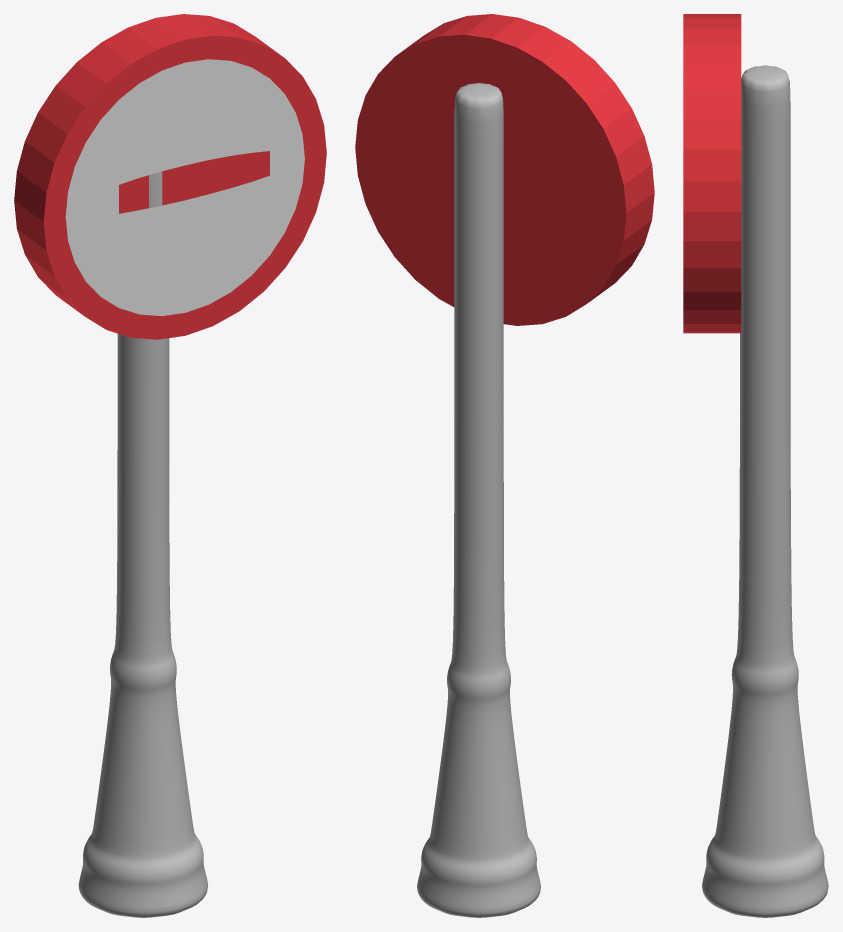
File: stop.fbx
3 renders of one model, left to right at view 1: azimuth 30°, elevation 25°; view 2: azimuth 150°, elevation 25°; view 3: azimuth 270°, elevation 25°, orthographic. The views are drawn at different scales.
Parts seen in each view (by area): view 1: Circle, Cylinder; view 2: Circle, Cylinder; view 3: Cylinder, Circle.
Part boxes in pixels (bbox=[...]): Circle: bbox=[14, 14, 326, 339]; Cylinder: bbox=[78, 171, 208, 917]; Circle: bbox=[355, 14, 654, 325]; Cylinder: bbox=[417, 83, 540, 917]; Cylinder: bbox=[702, 65, 828, 917]; Circle: bbox=[683, 14, 741, 333].
Size of the model in its own units: 7.61 by 22.85 by 3.46.
